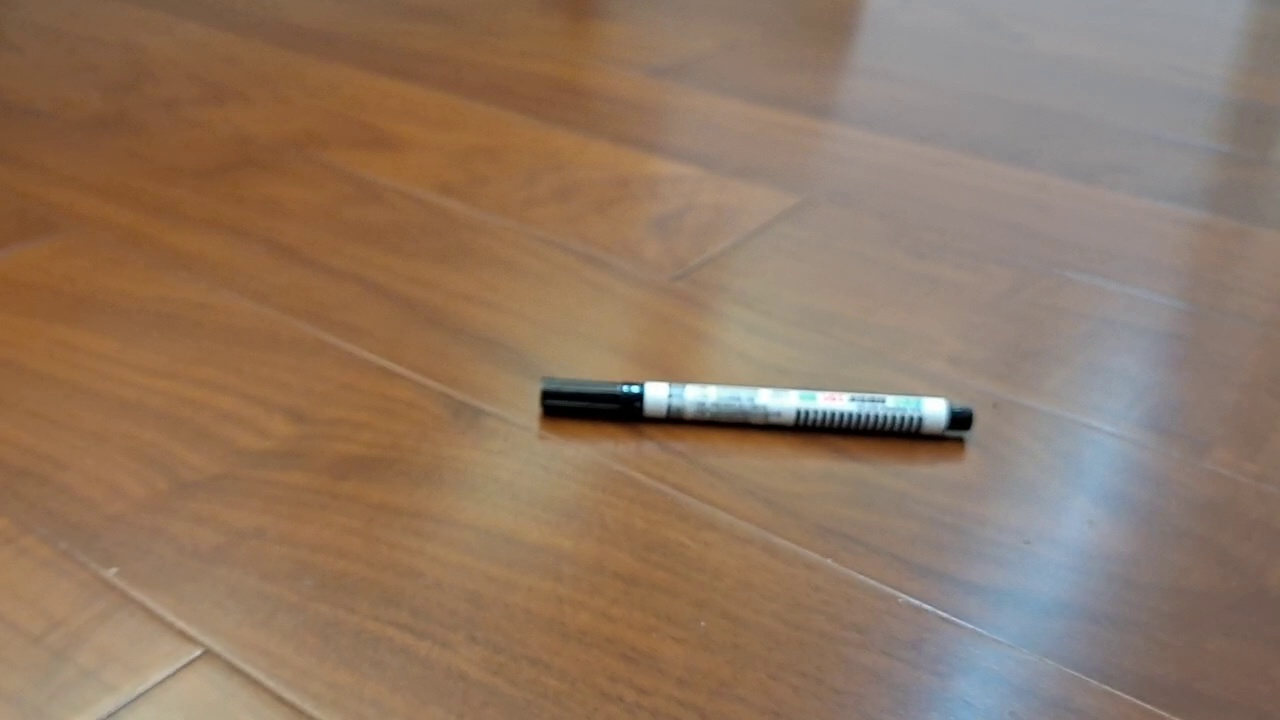pen: (539, 375, 973, 436)
